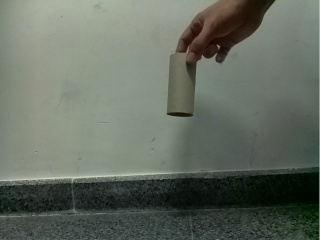rollo papel: (166, 52, 198, 118)
